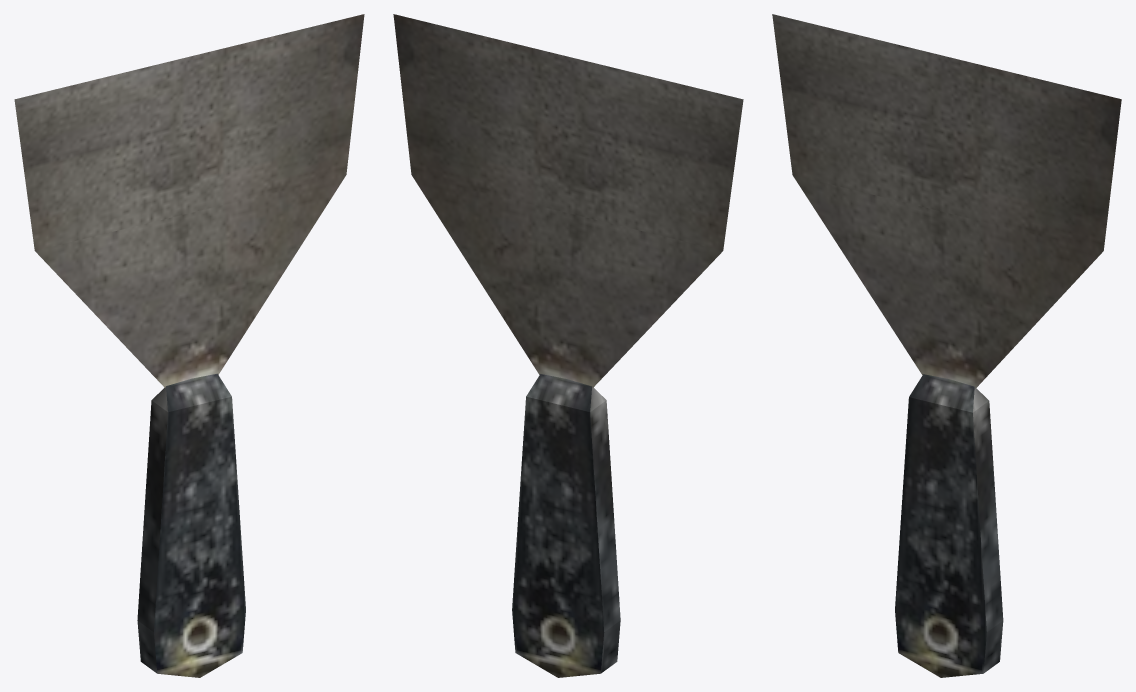
3 renders of one model, left to right at view 1: azimuth 30°, elevation 25°; view 2: azimuth 150°, elevation 25°; view 3: azimuth 330°, elevation 25°, orthographic.
Visible parts, largest first — view 1: PuttyKnife; view 2: PuttyKnife; view 3: PuttyKnife.
Part boxes in pixels (bbox=[...]): PuttyKnife: bbox=[14, 14, 364, 677]; PuttyKnife: bbox=[393, 14, 743, 677]; PuttyKnife: bbox=[772, 14, 1121, 677].
Size of the model in its own units: 1.47 by 2.47 by 0.1196.
Materials: 1 (1 with a texture image).
